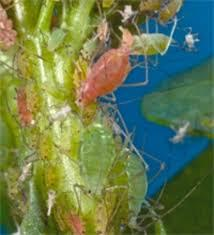Insects: (67, 30, 138, 118), (119, 14, 183, 64), (3, 83, 47, 134), (0, 0, 27, 57), (59, 198, 100, 235)
